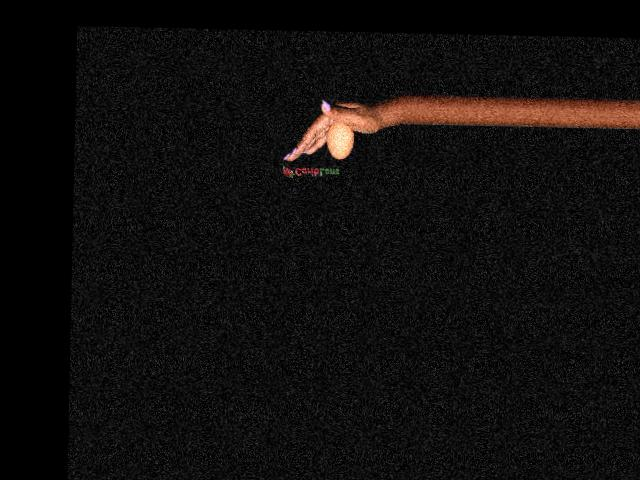egg: (326, 122, 354, 159)
